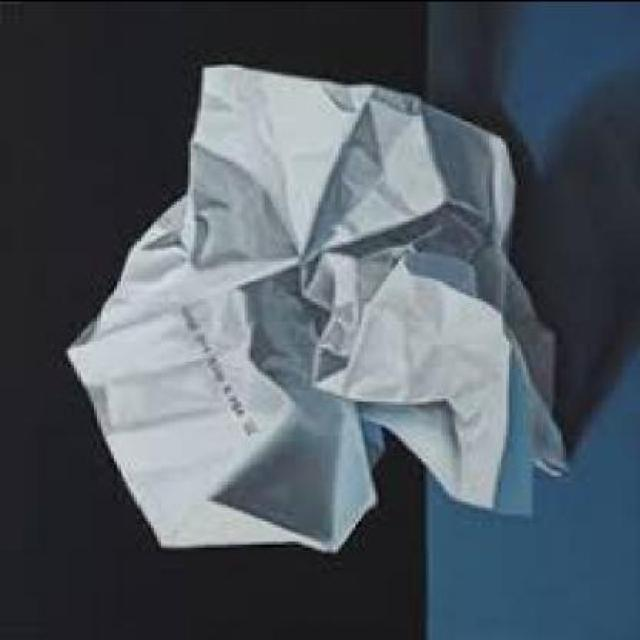PAPER: (62, 65, 568, 558)
